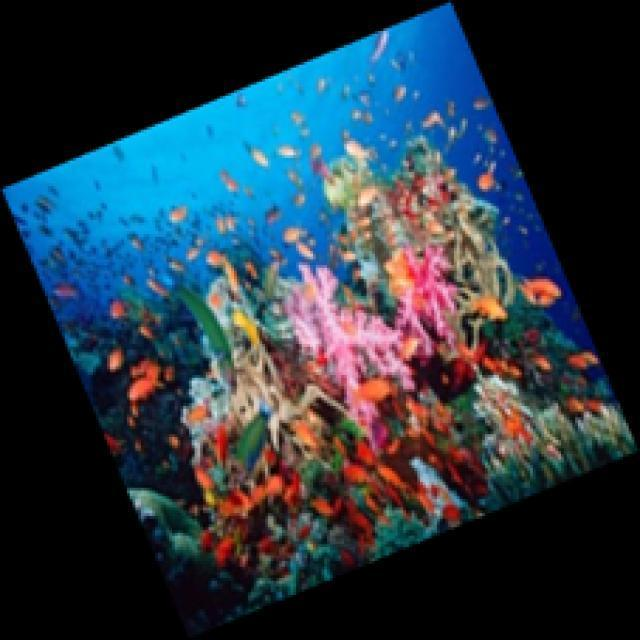Healthy: (284, 251, 464, 439)
